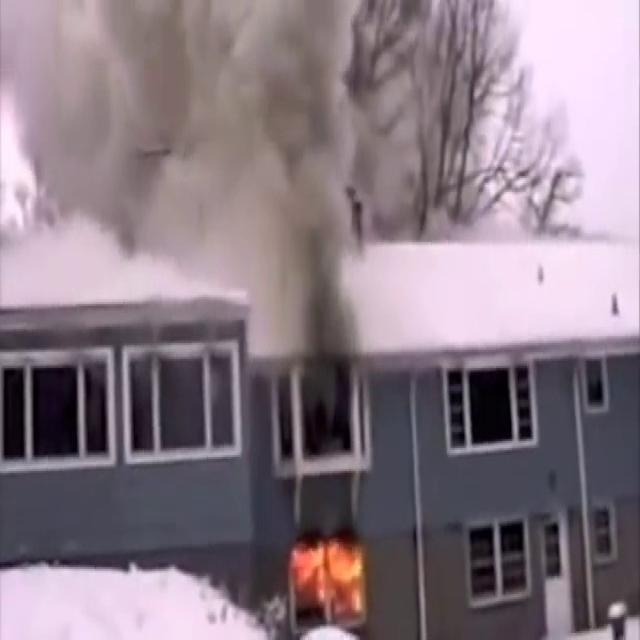Fire: (288, 518, 378, 628)
Smoke: (0, 0, 420, 295)
